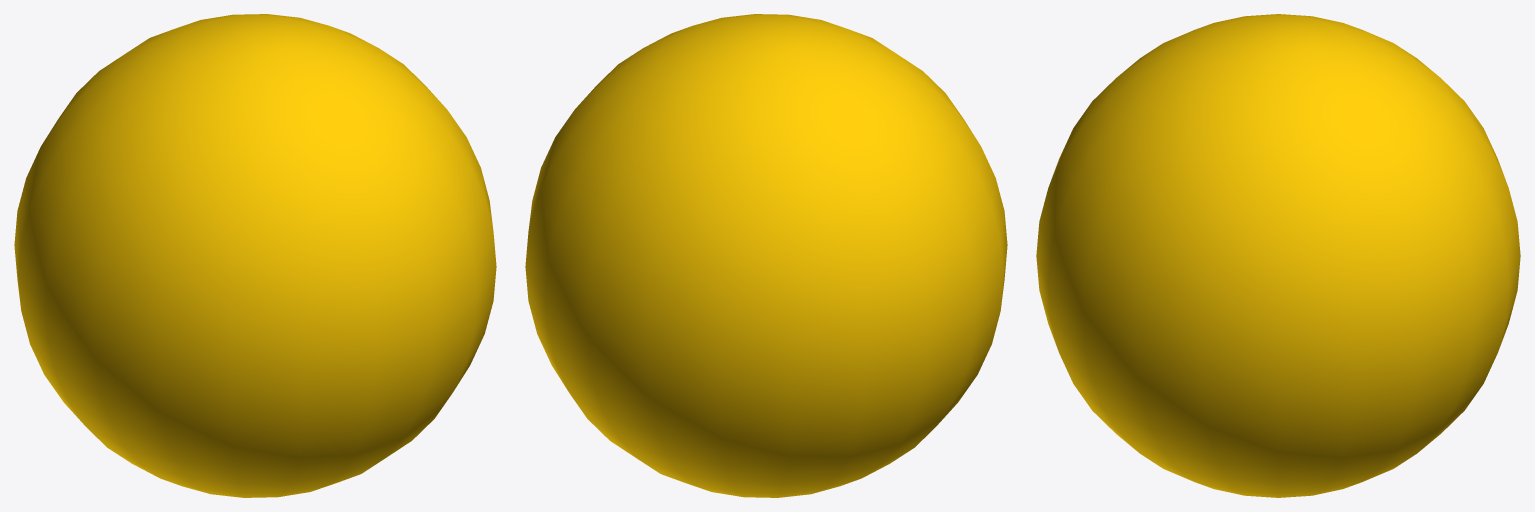
File: item.fbx
3 renders of one model, left to right at view 1: azimuth 30°, elevation 25°; view 2: azimuth 150°, elevation 25°; view 3: azimuth 270°, elevation 25°, orthographic.
Parts seen in each view (by area): view 1: pSphere2; view 2: pSphere2; view 3: pSphere2.
Boxes of the visible parts, left/top/right/bottom form: pSphere2: left=14, top=14, right=496, bottom=497; pSphere2: left=525, top=14, right=1007, bottom=497; pSphere2: left=1036, top=14, right=1520, bottom=497.
Size of the model in its own units: 140 by 140 by 140.
